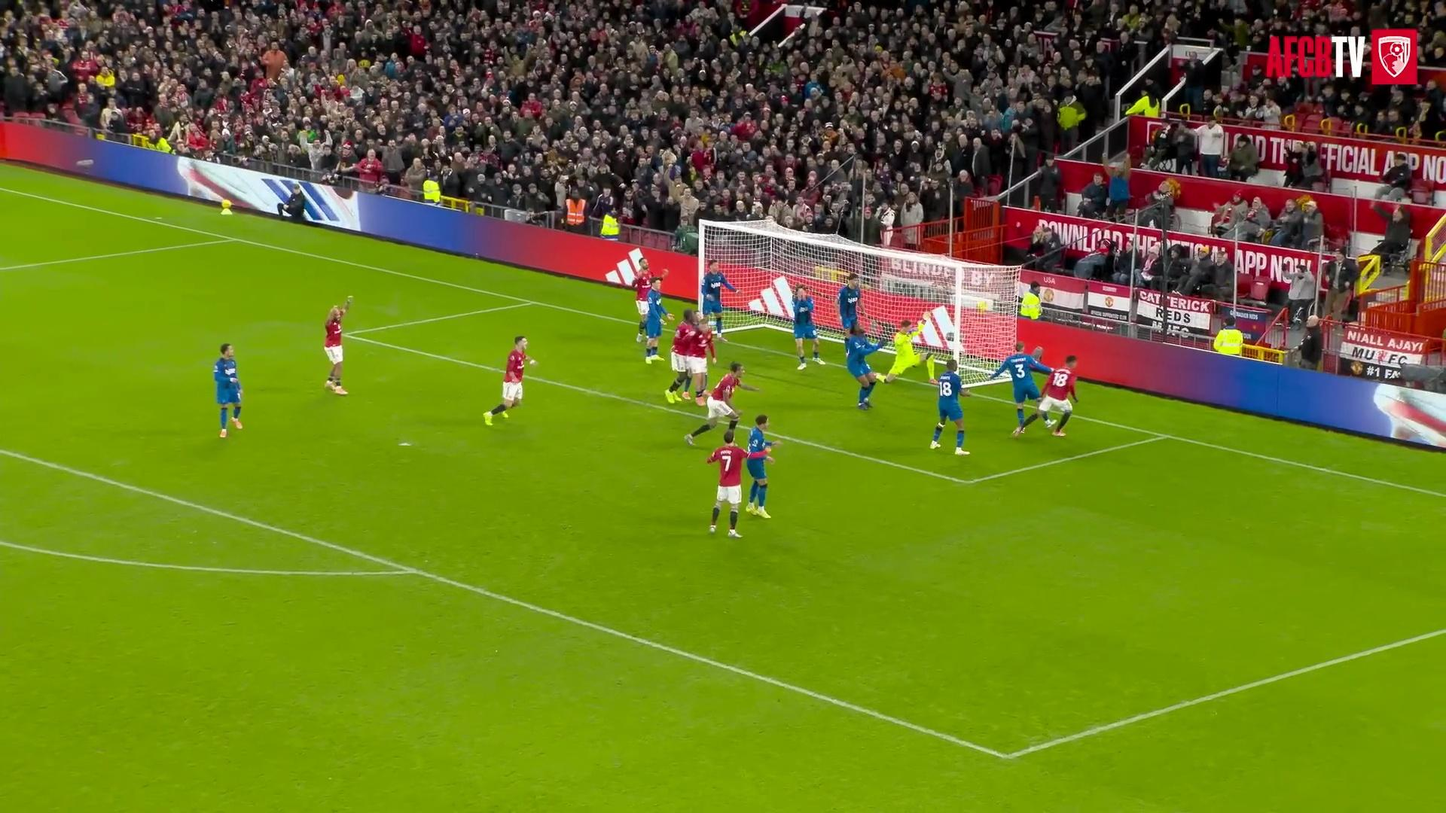player: (685, 362, 759, 445), (990, 342, 1052, 435), (484, 336, 536, 425), (706, 430, 746, 537), (1025, 356, 1077, 436), (930, 359, 969, 455), (883, 320, 936, 382), (845, 324, 883, 410), (746, 415, 776, 518), (665, 309, 697, 403), (633, 257, 667, 341), (701, 260, 736, 340), (324, 296, 352, 395), (213, 343, 242, 437), (793, 285, 824, 369), (689, 313, 716, 406), (645, 278, 671, 363), (837, 273, 861, 335)
